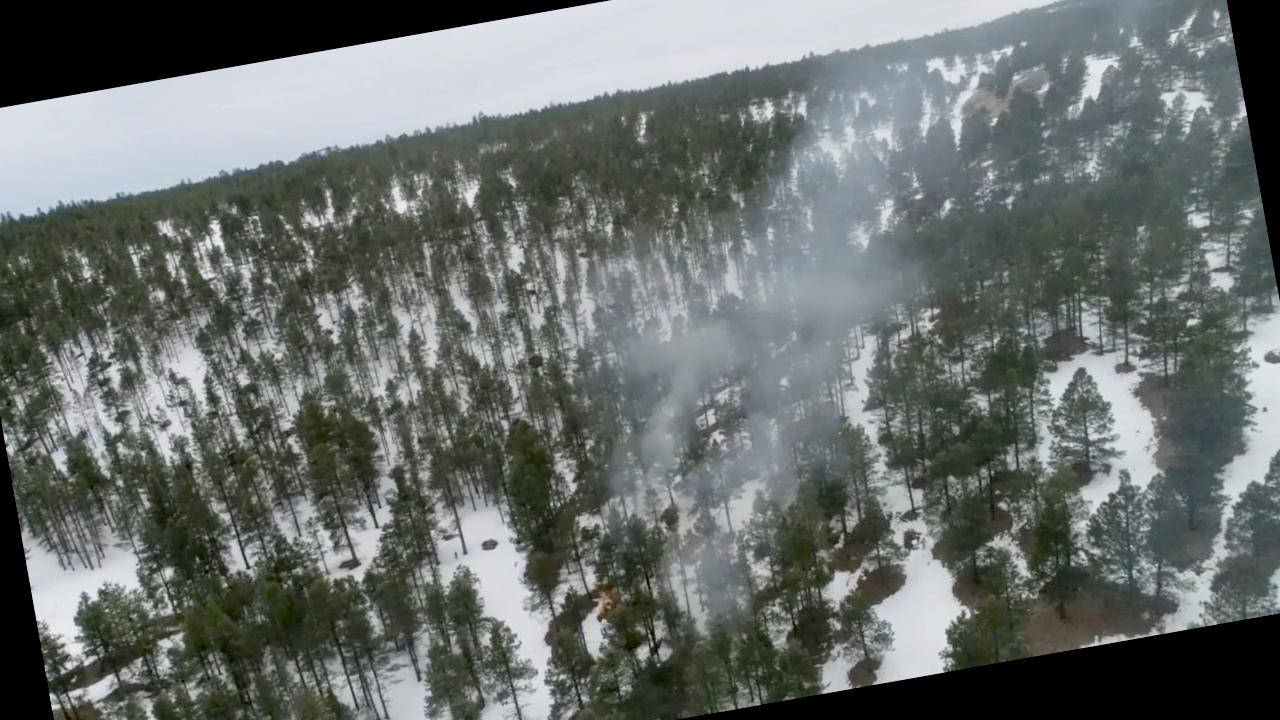smoke: (540, 36, 1084, 624)
